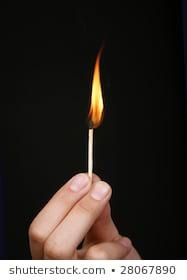fire: (86, 42, 106, 126)
